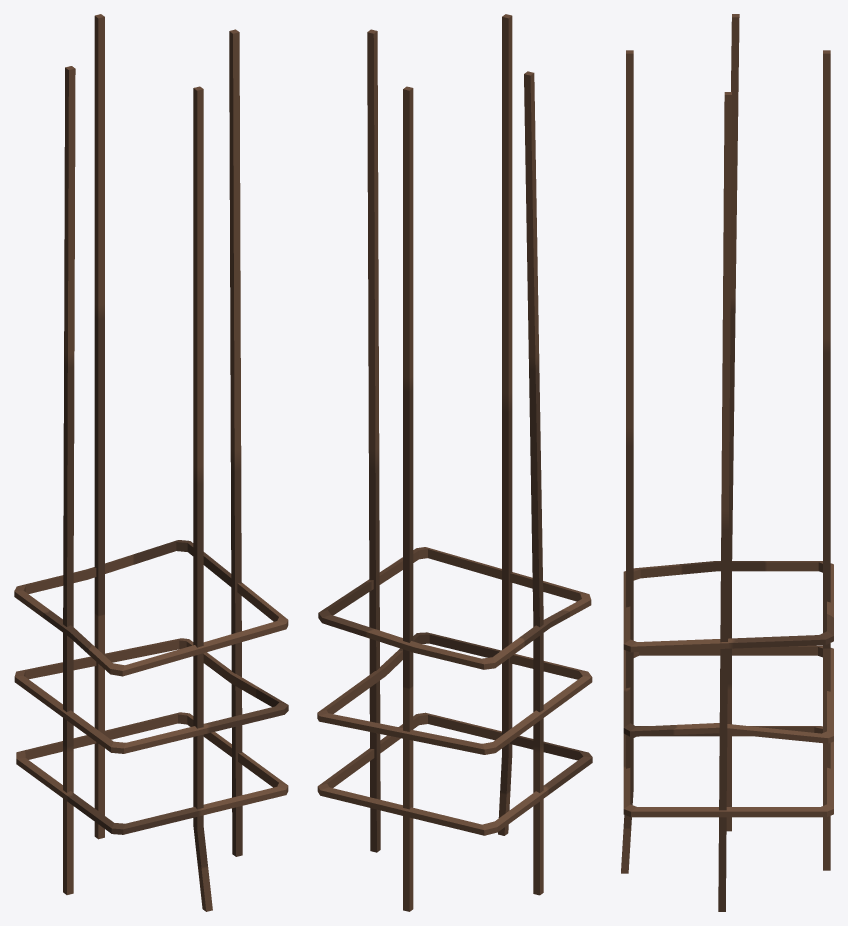
File: SM_Bld_ConcreteRebar_Pillar_Short_03.fbx
3 views of the same model, side by side, from view 1: azimuth 30°, elevation 25°; view 2: azimuth 150°, elevation 25°; view 3: azimuth 270°, elevation 25° (orthographic).
Visible parts, largest first — view 1: SM_Bld_ConcreteRebar_Pillar_Short_03; view 2: SM_Bld_ConcreteRebar_Pillar_Short_03; view 3: SM_Bld_ConcreteRebar_Pillar_Short_03.
Part boxes in pixels (x1,y1,x2,y2): SM_Bld_ConcreteRebar_Pillar_Short_03: (14,14,288,911); SM_Bld_ConcreteRebar_Pillar_Short_03: (317,14,592,911); SM_Bld_ConcreteRebar_Pillar_Short_03: (621,14,833,911).
Size of the model in its own units: 65.72 by 292 by 69.01.
